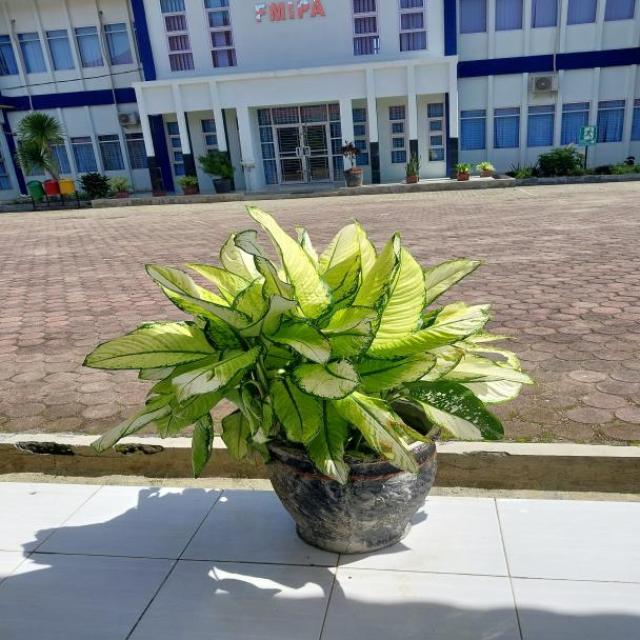plant ahead at: (97, 209, 521, 556)
